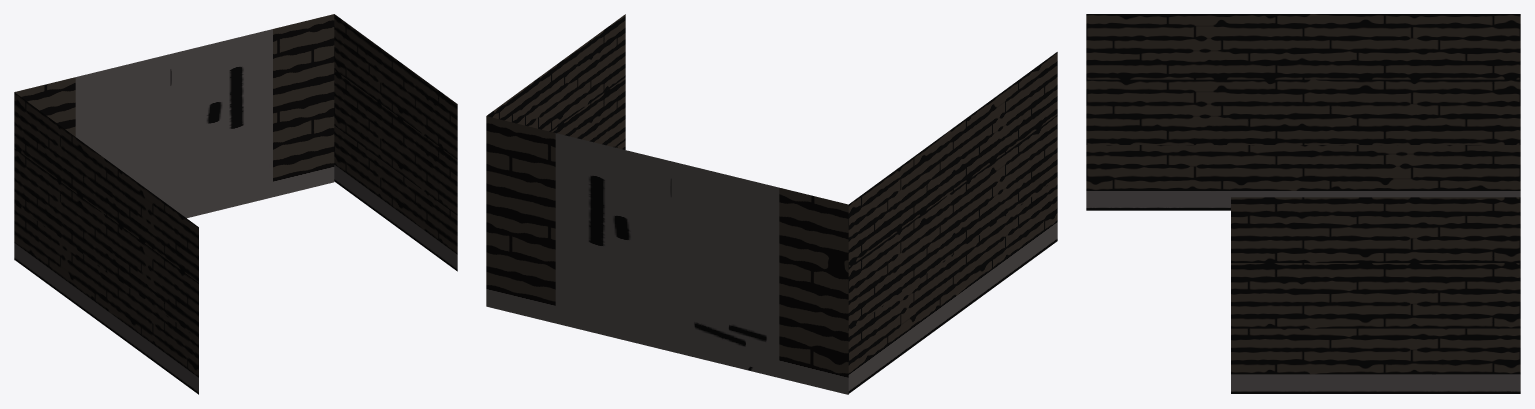
Rendered from CaptainQuarters_Walls.fbx.
The picture shows the model from 3 angles, left to right: view 1: azimuth 30°, elevation 25°; view 2: azimuth 150°, elevation 25°; view 3: azimuth 270°, elevation 25°; orthographic projection. The views are drawn at different scales.
Visible parts, largest first — view 1: pPlane28, pPlane61, pPlane87; view 2: pPlane28, pPlane61, pPlane87; view 3: pPlane61, pPlane87.
Part boxes in pixels (left/top/right/bottom): pPlane28: left=14, top=14, right=334, bottom=260; pPlane61: left=14, top=92, right=198, bottom=394; pPlane87: left=334, top=14, right=457, bottom=271; pPlane28: left=486, top=116, right=848, bottom=394; pPlane61: left=848, top=52, right=1057, bottom=393; pPlane87: left=486, top=14, right=625, bottom=149; pPlane61: left=1086, top=14, right=1520, bottom=210; pPlane87: left=1231, top=197, right=1520, bottom=393.
Bounding box in the file's own units: 6 × 3.01 × 6.
